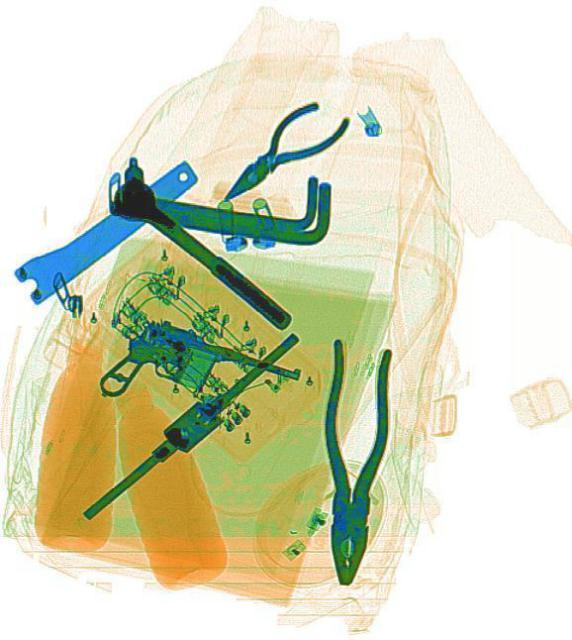Gun: (94, 304, 301, 456)
Pliers: (310, 335, 394, 587), (201, 82, 353, 220)
